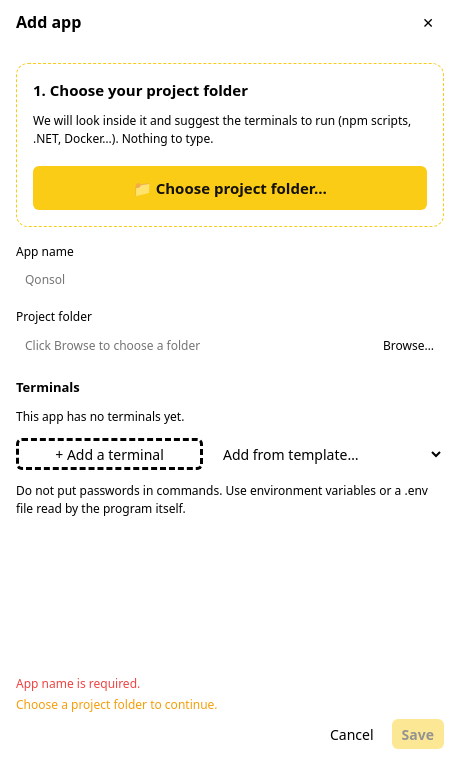
Scenario: EditPane › uses the folder picker for Browse
The image size is (460, 763).
Click the button "Browse…" at (408, 345), box [373,330,444,360]
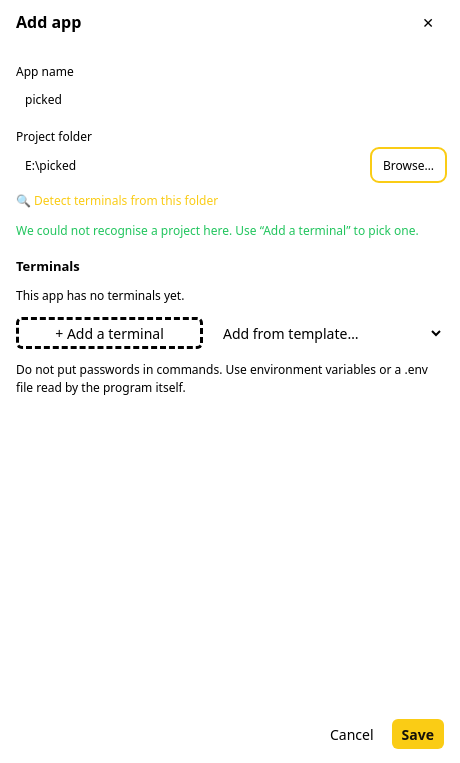
Expected: the field named "Root folder" holds "E:\\picked", [16,150,367,180]
